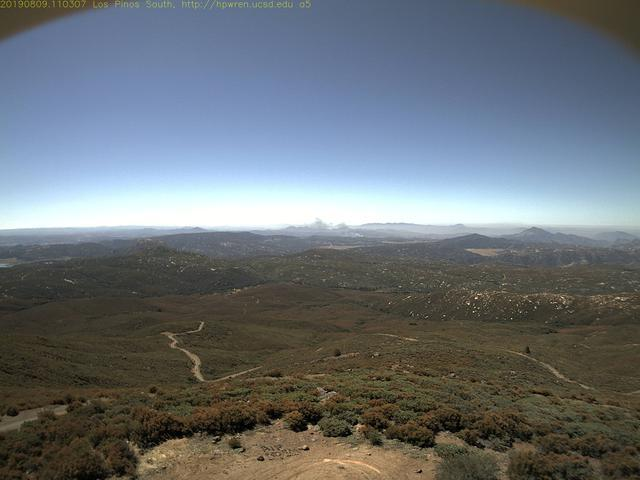smoke: (272, 215, 367, 241)
